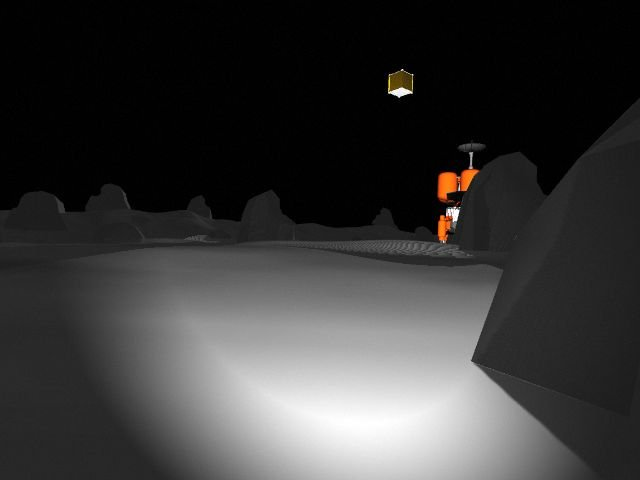cubesat: (384, 65, 420, 104)
